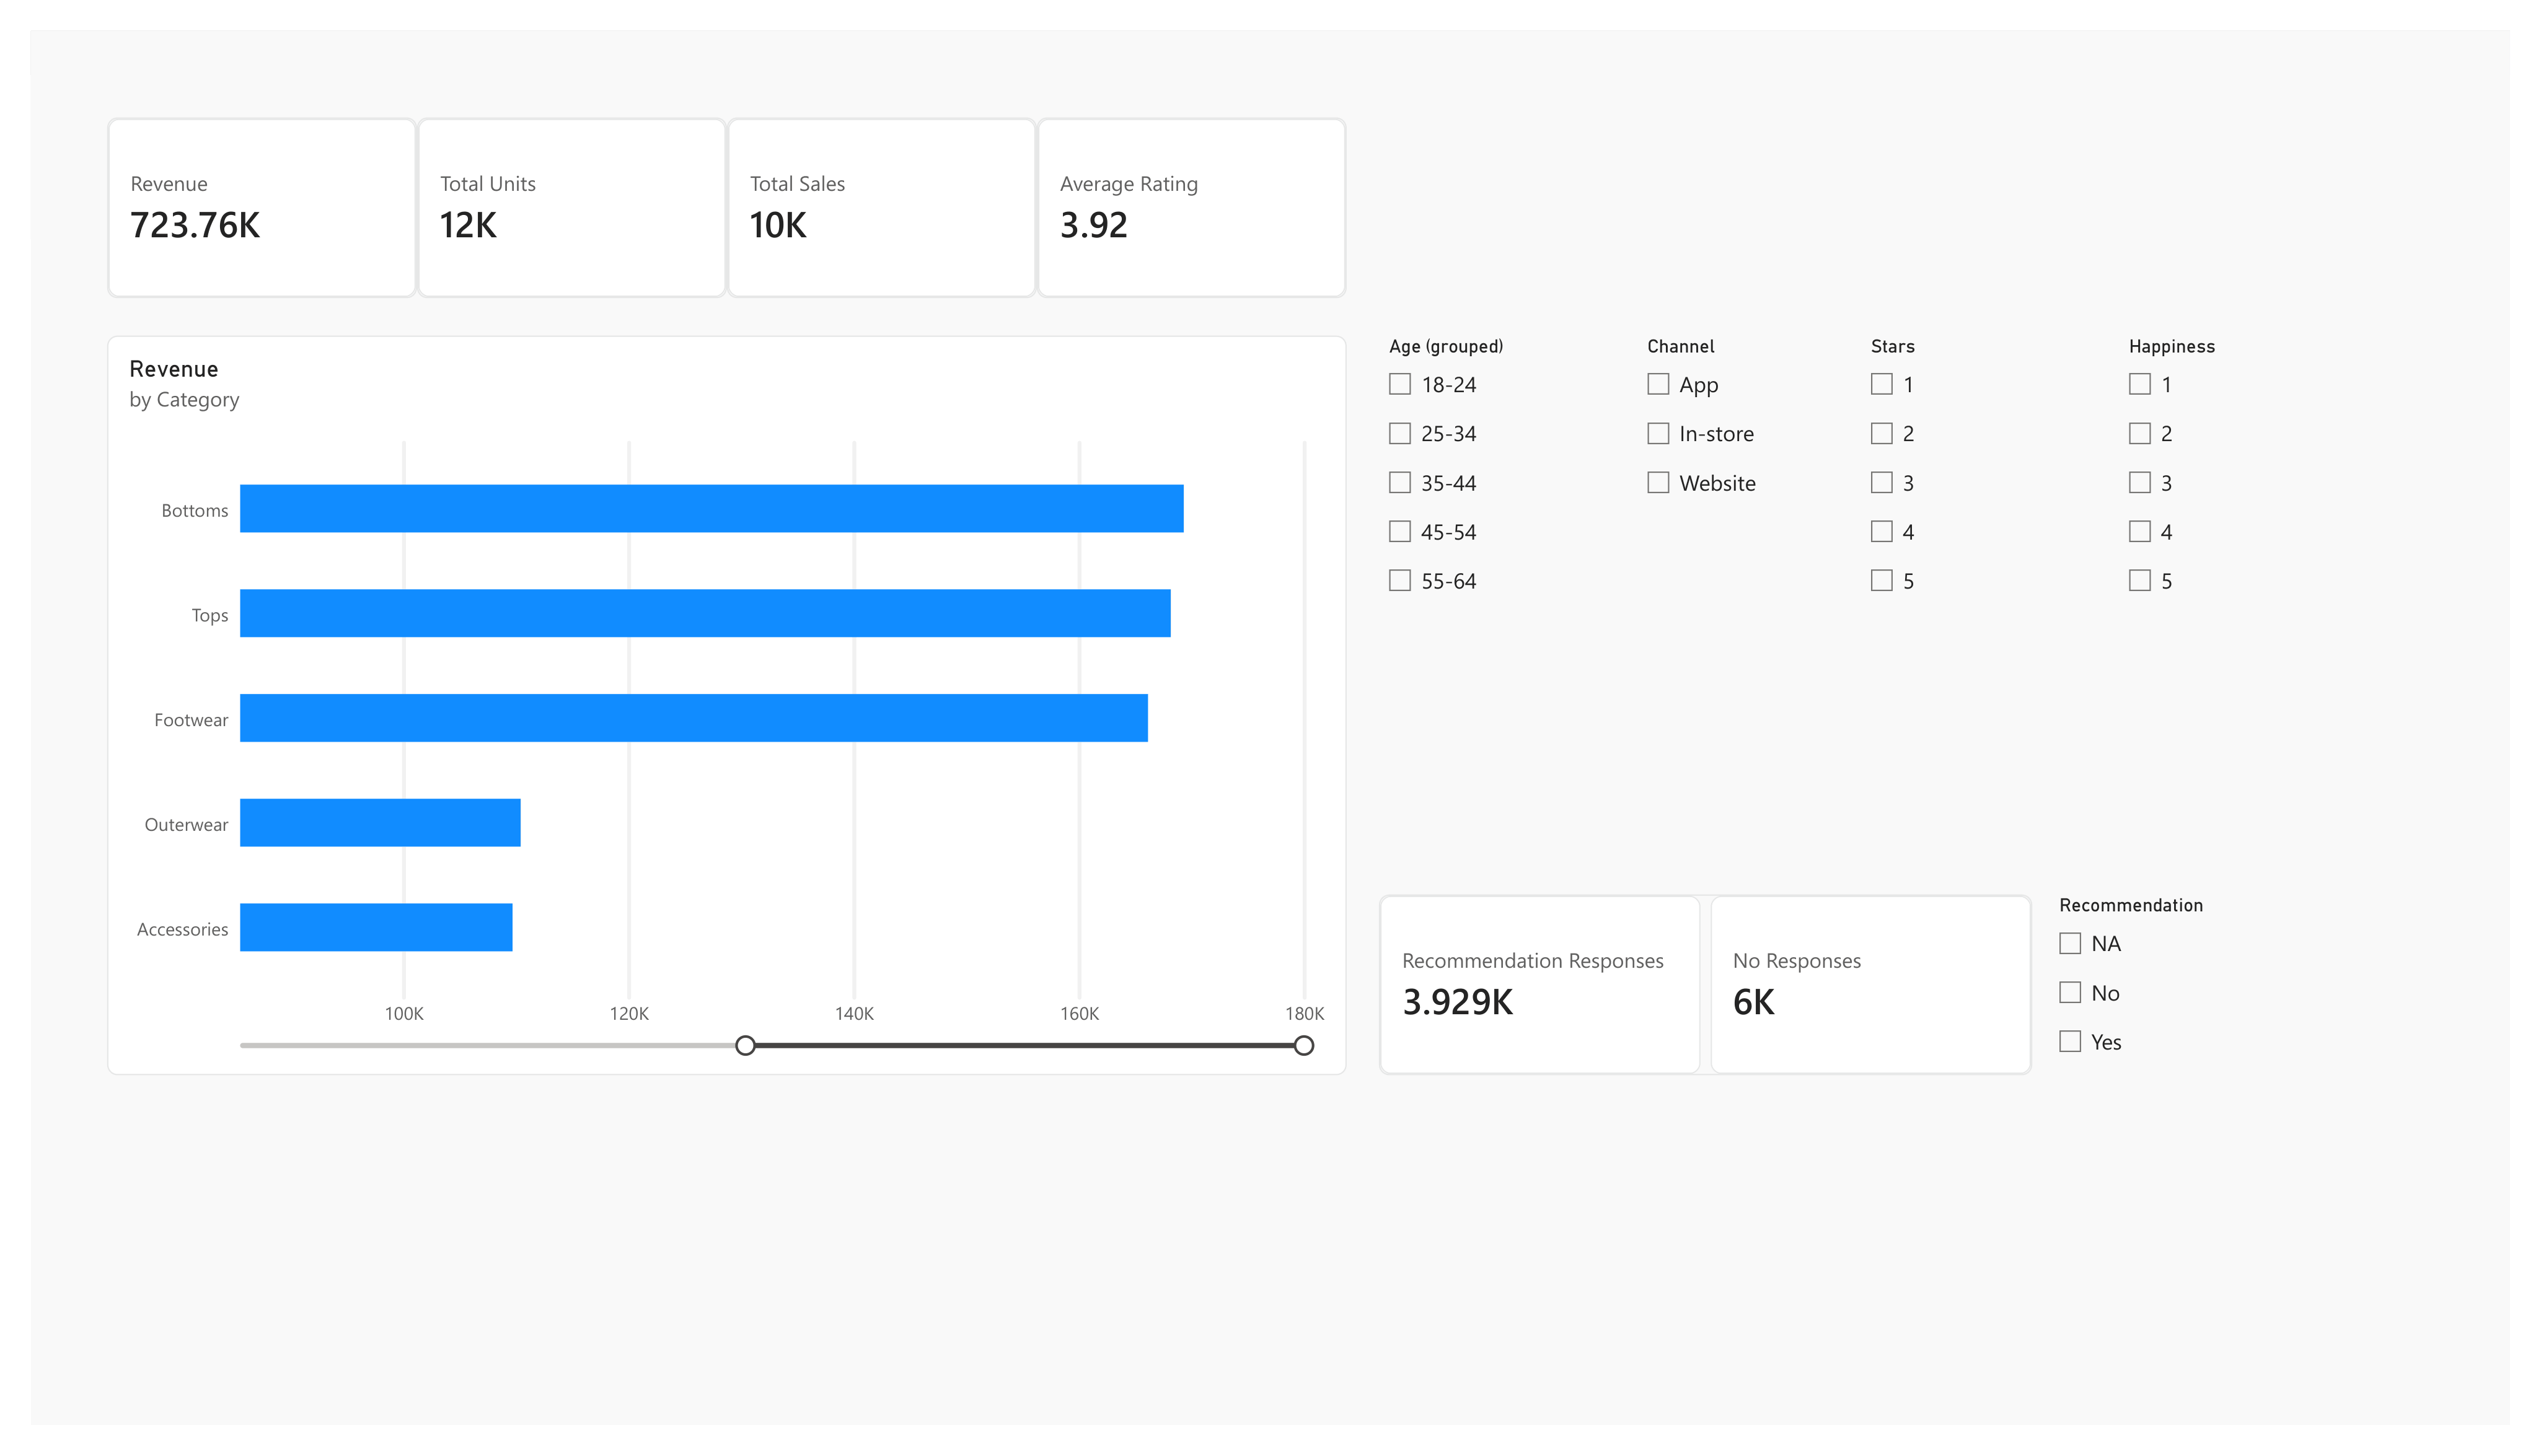

Layout of this report page (visuals, bound fields, positions):
{"tool":"powerbi","page":{"name":"Page 1","canvas":[1920,1080],"ordinal":3},"visuals":[{"type":"cardVisual","title":"Total Revenue","fields":{"Data":["fake_data.Revenue"]},"box":[58.6,67.1,240,140],"z":0},{"type":"cardVisual","title":"Total units","fields":{"Data":["fake_data.Total_units"]},"box":[298.6,67.1,240,140],"z":1000},{"type":"cardVisual","fields":{"Data":["fake_data.Total Sales"]},"box":[538.6,67.1,240,140],"z":2000},{"type":"cardVisual","fields":{"Data":["fake_data.Average Rating"]},"box":[778.6,67.1,240,140],"z":3000},{"type":"cardVisual","fields":{"Data":["fake_data.Recommendation %","fake_data.No Recommendation Responses"]},"box":[1044.3,668.6,505.7,140],"z":4000},{"type":"clusteredBarChart","fields":{"Category":["fake_data.Category"],"Y":["fake_data.Revenue"]},"box":[58.6,235.7,960,572.9],"z":5000},{"type":"slicer","fields":{"Values":["fake_data.Age (grouped)"]},"box":[1044.3,235.7,200,240],"z":6000},{"type":"slicer","fields":{"Values":["fake_data.Channel"]},"box":[1244.3,235.7,200,240],"z":7000},{"type":"slicer","fields":{"Values":["fake_data.Happiness"]},"box":[1617.1,235.7,200,240],"z":9000},{"type":"slicer","fields":{"Values":["fake_data.Recommendation"]},"box":[1562.9,668.6,200,140],"z":10000},{"type":"slicer","fields":{"Values":["fake_data.Stars"]},"box":[1417.1,235.7,200,240],"z":11000}]}

Visuals, with their boxes on the page's 1920x1080 design canvas (x1, y1, x2, y2). These are canvas units, not pixel positions in the 2541x1456 screenshot, which may show the page scaled, cropped or inside an application window:
"Total Revenue" cardVisual: locate(59, 67, 299, 207)
"Total units" cardVisual: locate(299, 67, 539, 207)
cardVisual - fake_data.Total Sales: locate(539, 67, 779, 207)
cardVisual - fake_data.Average Rating: locate(779, 67, 1019, 207)
cardVisual - fake_data.Recommendation % x fake_data.No Recommendation Responses: locate(1044, 669, 1550, 809)
clusteredBarChart - fake_data.Category x fake_data.Revenue: locate(59, 236, 1019, 809)
slicer - fake_data.Age (grouped): locate(1044, 236, 1244, 476)
slicer - fake_data.Channel: locate(1244, 236, 1444, 476)
slicer - fake_data.Happiness: locate(1617, 236, 1817, 476)
slicer - fake_data.Recommendation: locate(1563, 669, 1763, 809)
slicer - fake_data.Stars: locate(1417, 236, 1617, 476)
